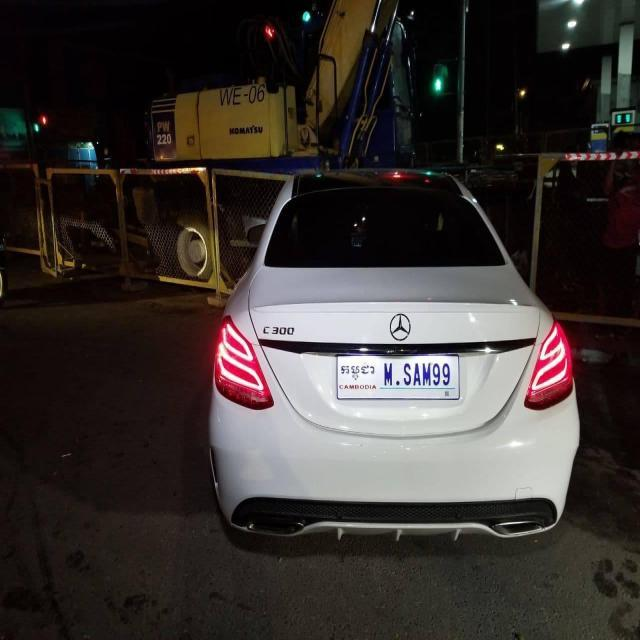Cambodia: (341, 364, 377, 382)
